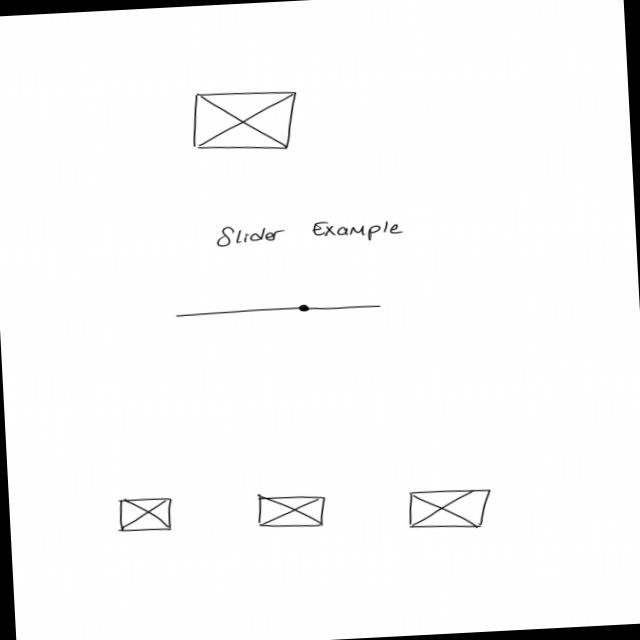image: (190, 89, 303, 156), (406, 487, 495, 534), (255, 493, 330, 533), (117, 496, 177, 536)
label: (215, 216, 410, 252)
slider: (175, 300, 385, 322)
